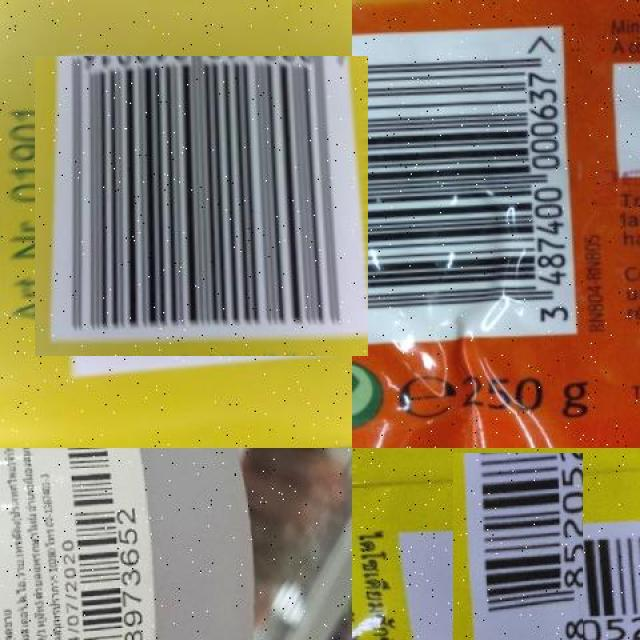Barcode: (44, 47, 360, 365), (352, 22, 575, 346), (426, 481, 612, 640), (57, 448, 147, 640)
